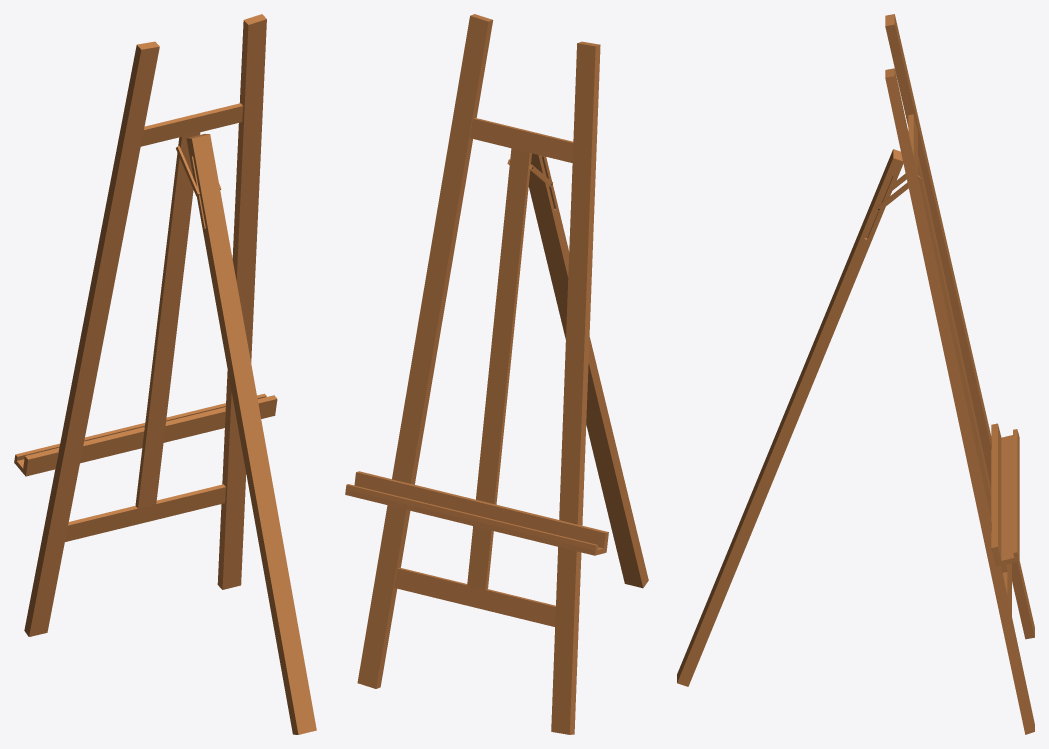
File: portador_de_cuadros.fbx
The picture shows the model from 3 angles, left to right: view 1: azimuth 30°, elevation 25°; view 2: azimuth 150°, elevation 25°; view 3: azimuth 270°, elevation 25°; orthographic projection.
Visible parts, largest first — view 1: Cube.018; view 2: Cube.018; view 3: Cube.018.
Boxes of the visible parts, bbox=[...] form: Cube.018: bbox=[14, 14, 316, 734]; Cube.018: bbox=[345, 14, 648, 734]; Cube.018: bbox=[677, 14, 1034, 734].
Size of the model in its own units: 252 by 608 by 309.
